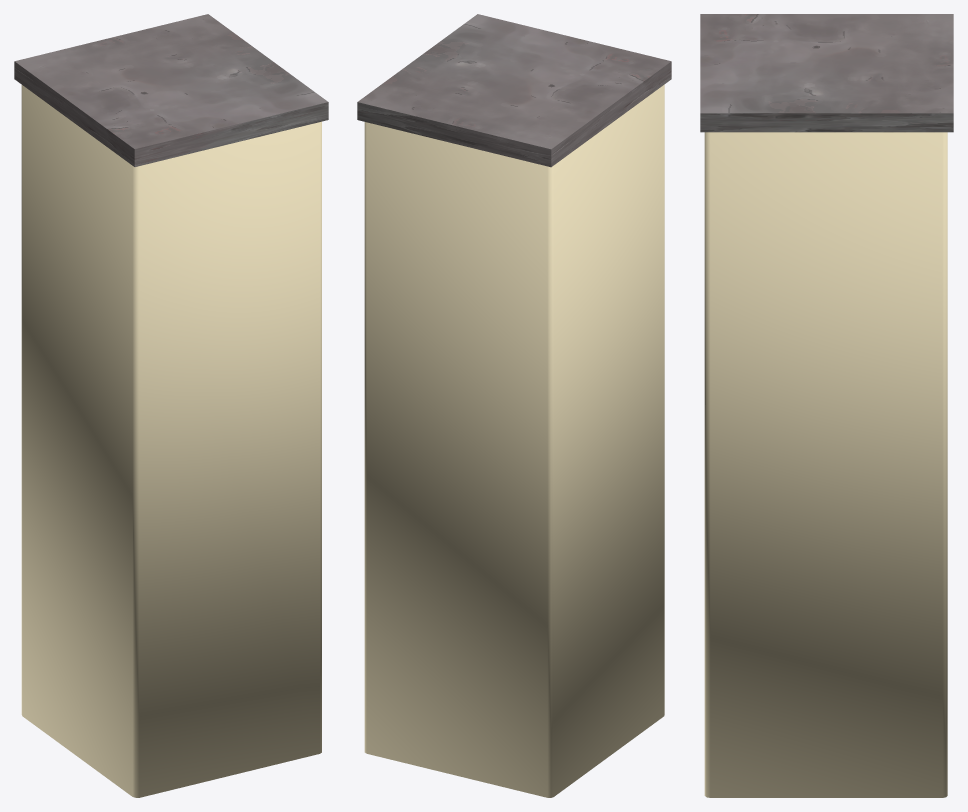
File: ColumnaEsquina.fbx
3 renders of one model, left to right at view 1: azimuth 30°, elevation 25°; view 2: azimuth 150°, elevation 25°; view 3: azimuth 270°, elevation 25°, orthographic. The views are drawn at different scales.
Parts seen in each view (by area): view 1: Columna.002, Baldosa.001; view 2: Columna.002, Baldosa.001; view 3: Columna.002, Baldosa.001.
Part boxes in pixels (x1,y1,x2,y2): Columna.002: (21,85,321,797); Baldosa.001: (14,14,328,166); Columna.002: (364,84,664,797); Baldosa.001: (357,14,671,167); Columna.002: (704,132,947,797); Baldosa.001: (700,14,953,132).
Bounding box in the file's own units: 160 × 513 × 172.
